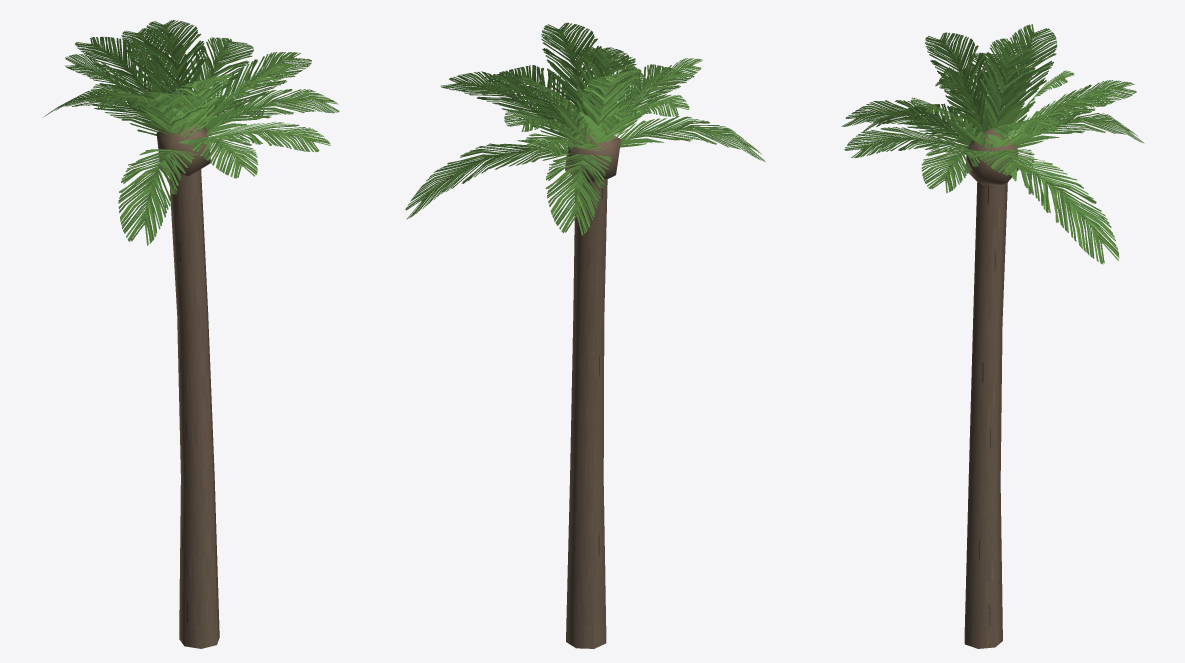
The model's file is WASHINGTONIA_1.glb.
3 views of the same model, side by side, from view 1: azimuth 30°, elevation 25°; view 2: azimuth 150°, elevation 25°; view 3: azimuth 270°, elevation 25° (orthographic). The views are drawn at different scales.
Visible parts, largest first — view 1: Arv_WASHINGTONIA_lod1; view 2: Arv_WASHINGTONIA_lod1; view 3: Arv_WASHINGTONIA_lod1.
Boxes of the visible parts, left/top/right/bottom form: Arv_WASHINGTONIA_lod1: left=43, top=20, right=339, bottom=648; Arv_WASHINGTONIA_lod1: left=405, top=22, right=765, bottom=648; Arv_WASHINGTONIA_lod1: left=841, top=24, right=1144, bottom=648.
Bounding box in the file's own units: 5.19 × 9.42 × 5.26.
Materials: 2 (2 with a texture image).
